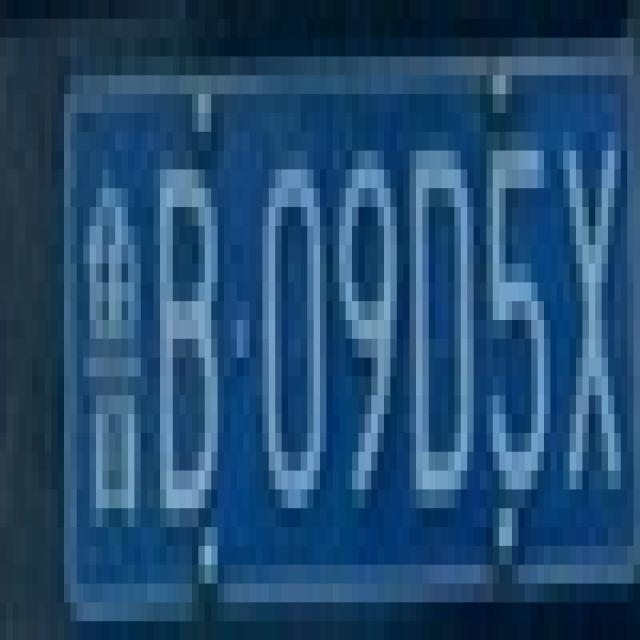0: (384, 94, 474, 490), (244, 112, 326, 490)
5: (468, 113, 550, 471)
9: (314, 113, 396, 471)
B: (134, 112, 218, 490)
X: (538, 94, 628, 471)
